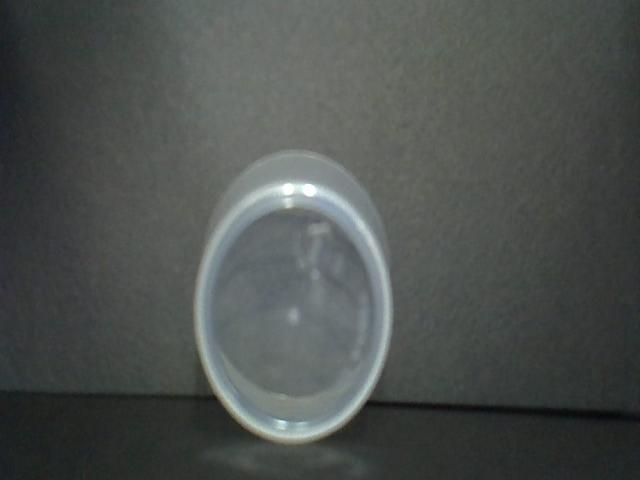cup: (190, 146, 400, 449)
